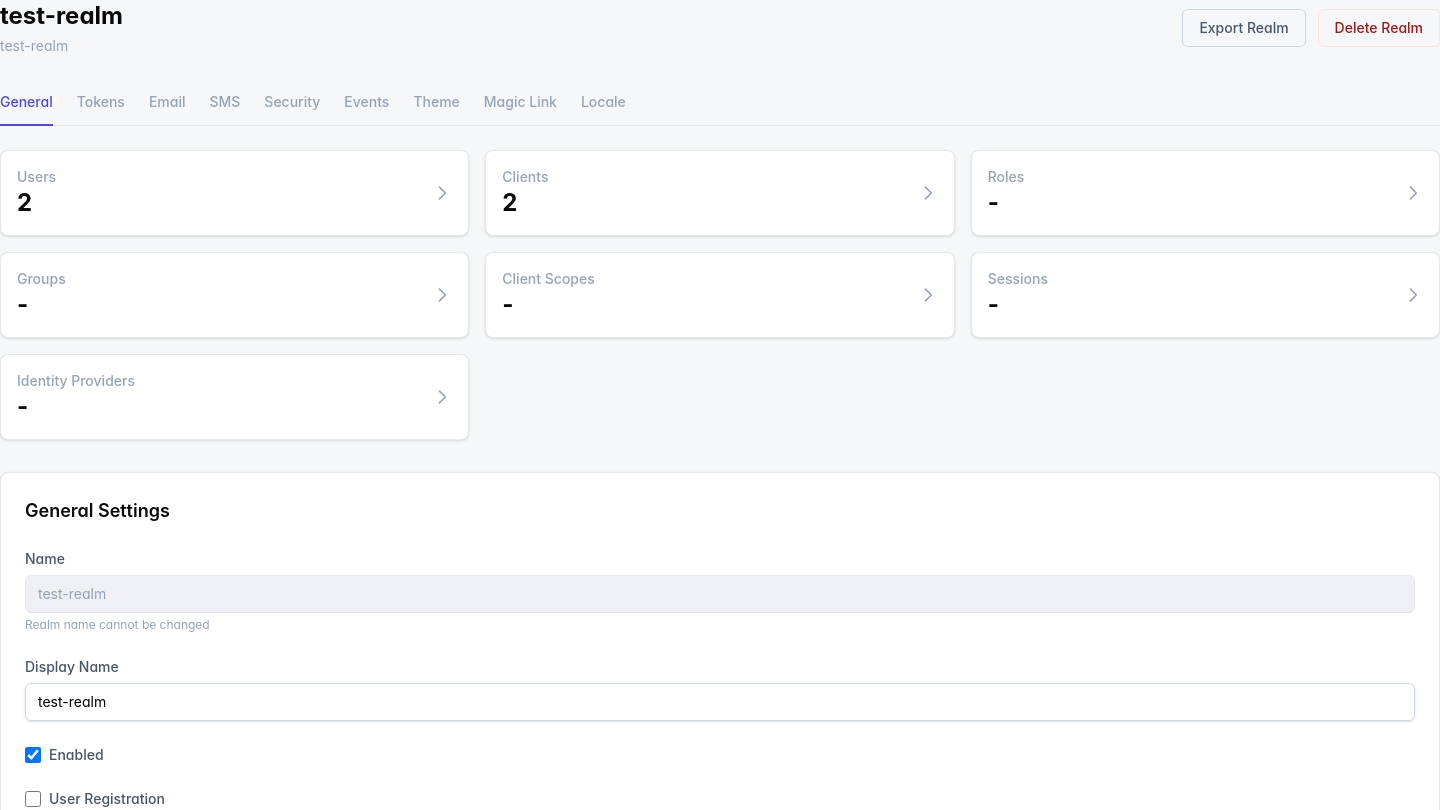
Test: RealmDetailPage › switches to the Theme tab
expect the heading "General Settings" is shown: met, box [25,500,170,521]
Click the button "Theme": (437, 103) [413,80,460,126]
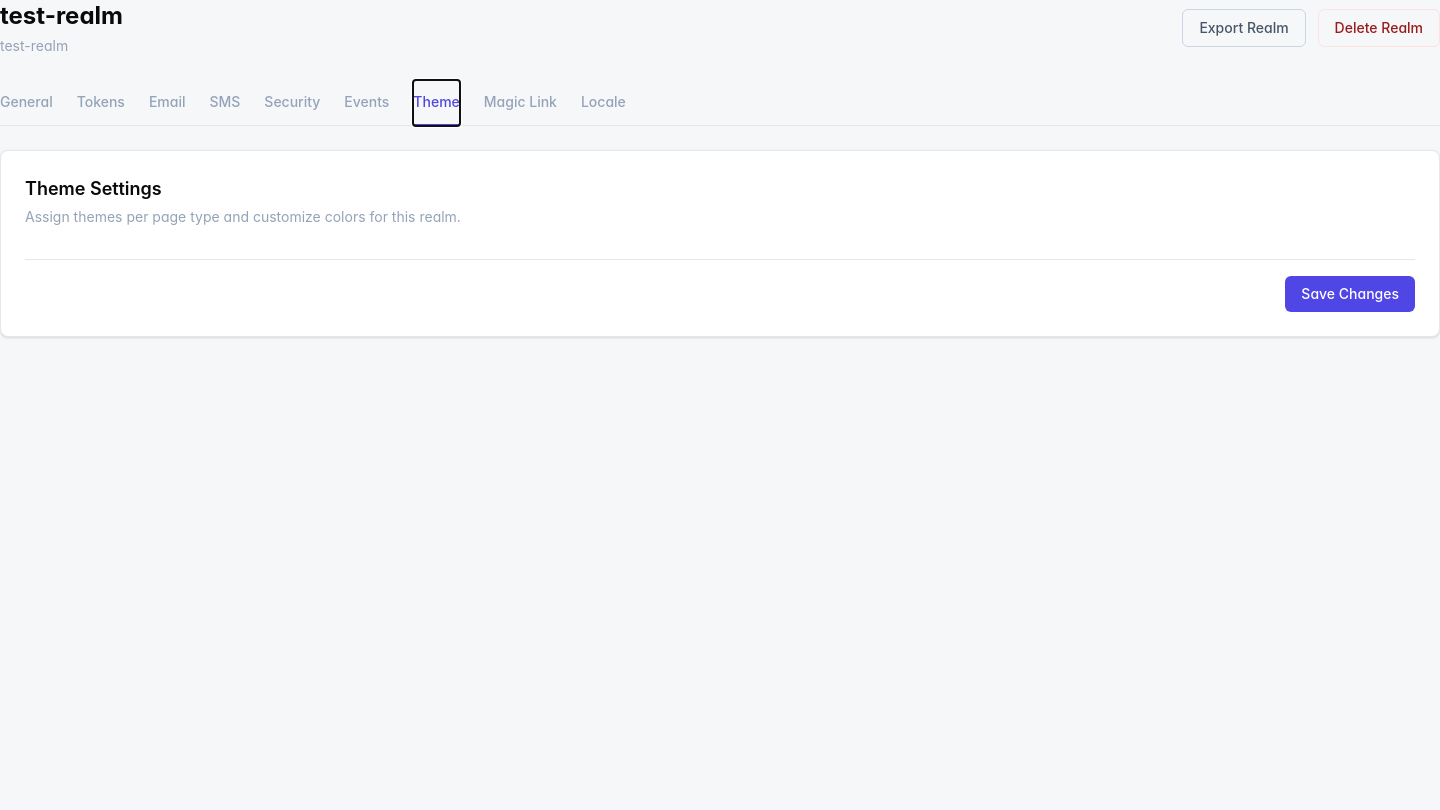
expect the heading "Theme Settings" is shown: met, box [25,178,162,199]
